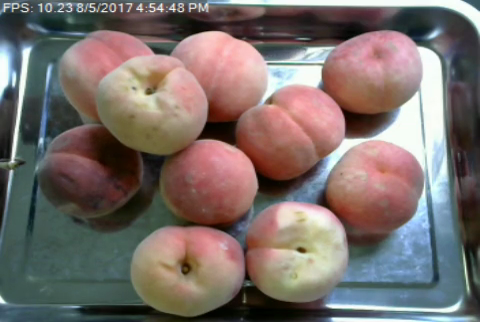Peach: (243, 202, 350, 303), (130, 224, 244, 318), (235, 84, 345, 181), (99, 54, 205, 154), (54, 28, 154, 128), (325, 138, 424, 236), (41, 122, 141, 218), (174, 30, 270, 122), (322, 28, 422, 115), (159, 139, 258, 226)
